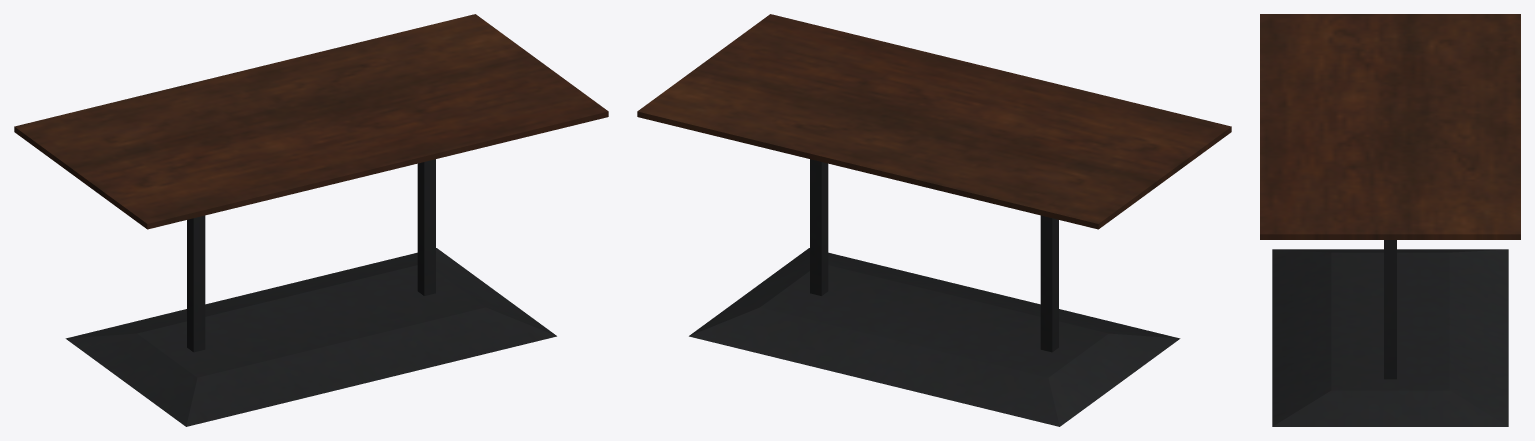
Rendered from table_02.fbx.
3 views of the same model, side by side, from view 1: azimuth 30°, elevation 25°; view 2: azimuth 150°, elevation 25°; view 3: azimuth 270°, elevation 25° (orthographic). The views are drawn at different scales.
Parts seen in each view (by area): view 1: table_02; view 2: table_02; view 3: table_02.
Boxes of the visible parts, left/top/right/bottom form: table_02: left=14, top=14, right=608, bottom=426; table_02: left=637, top=14, right=1231, bottom=426; table_02: left=1260, top=14, right=1520, bottom=426.
Bounding box in the file's own units: 200 × 90.52 × 100.
